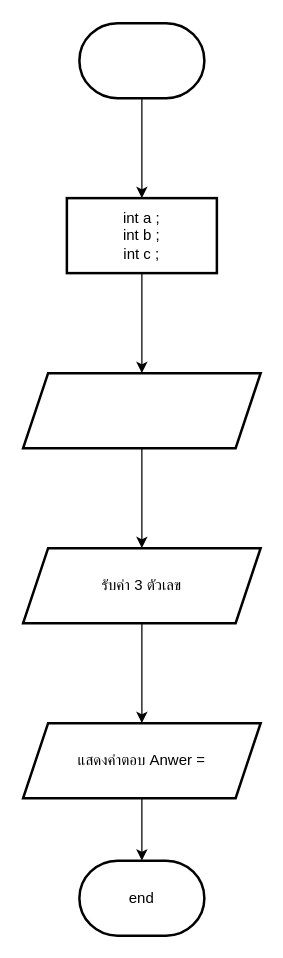
The diagram is 283 pixels wide and 958 high, and some of its shapes have lost their labels. Here are the shapes that lost their labels. From the top down, the box of each, then its label:
(78, 21, 205, 99): start
(21, 371, 261, 449): แสดงคำว่า Enter 3 Number :
